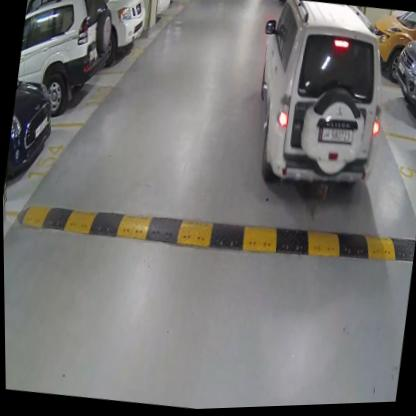np: (316, 126, 352, 149)
